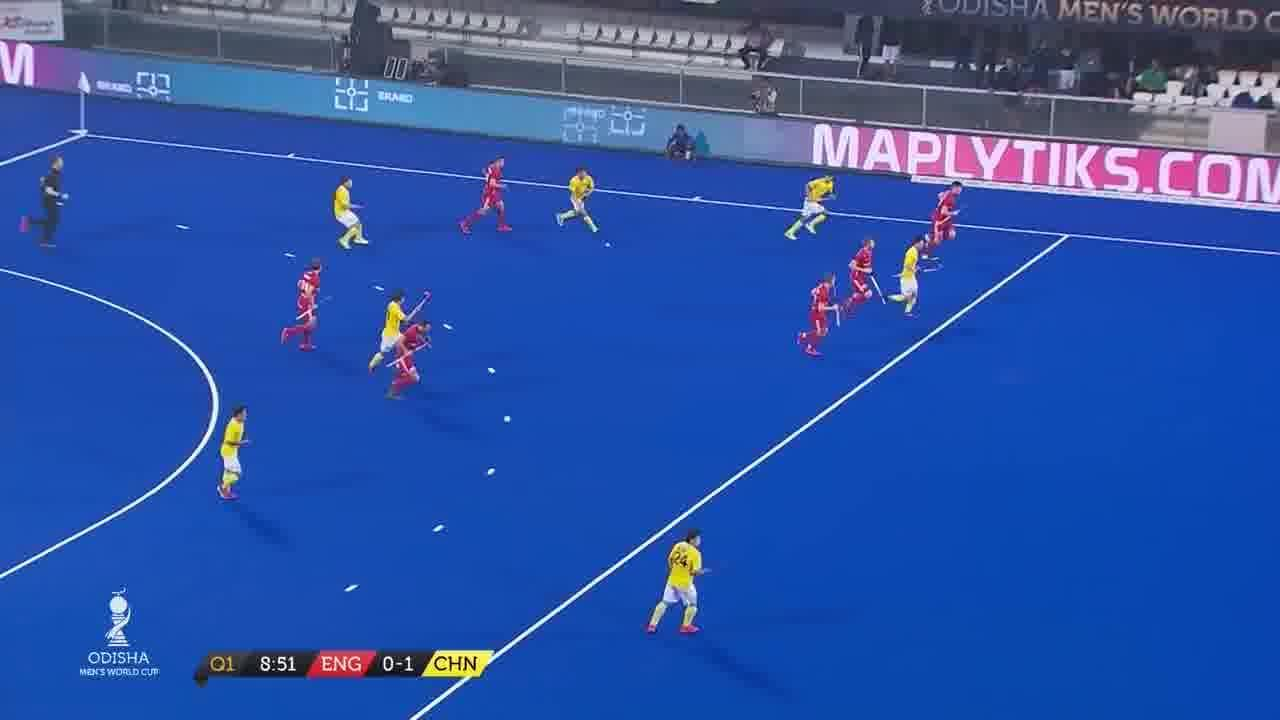ball: (600, 236, 614, 249)
